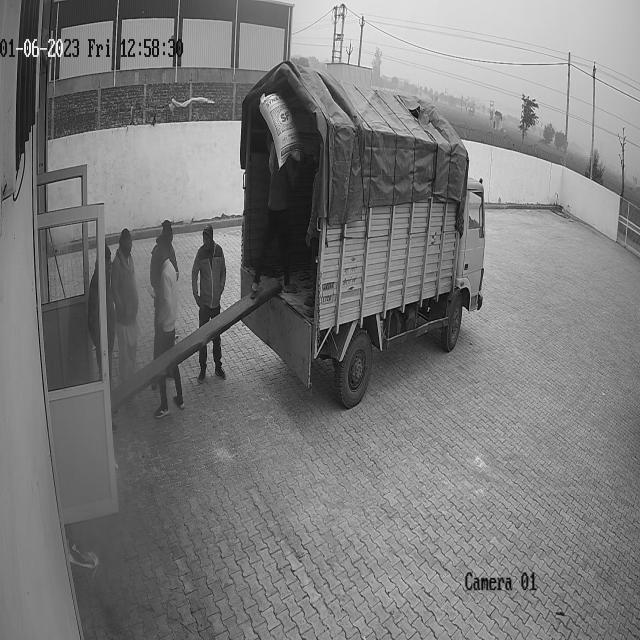sack: (259, 92, 299, 169)
